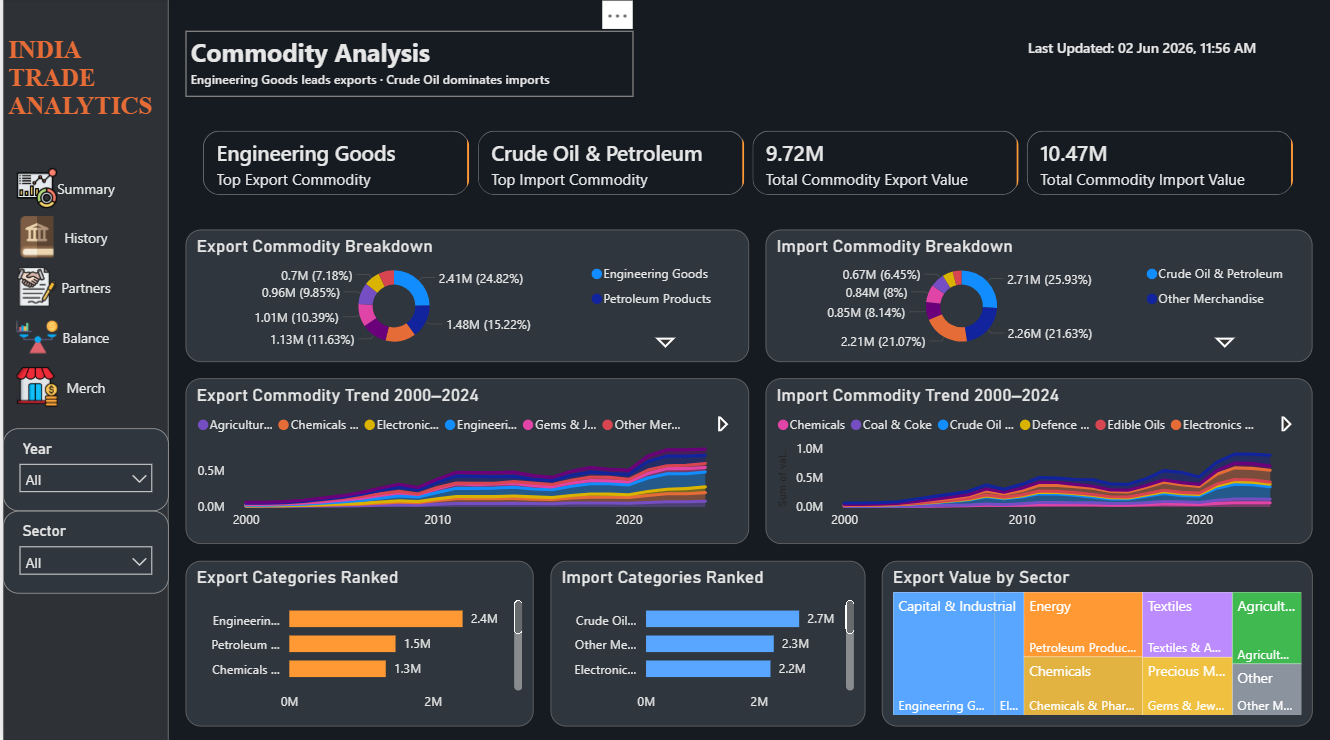

This screenshot's page, from the dashboard's own definition file:
{"tool":"powerbi","page":{"name":"Commodity Analysis","canvas":[1280,720],"ordinal":2},"visuals":[{"type":"cardVisual","fields":{"Data":["MeasuresTable.Top Export Commodity","MeasuresTable.Top Import Commodity","MeasuresTable.Total Commodity Export Value","MeasuresTable.Total Commodity Import Value"]},"box":[176,112,1088,96],"z":0},{"type":"donutChart","title":"Export Commodity Breakdown","fields":{"Category":["vw_CommodityExports.commodity_name"],"Y":["Sum(vw_CommodityExports.value_usd_m)"]},"box":[176,224,544,128],"z":1000},{"type":"donutChart","title":"Import Commodity Breakdown ","fields":{"Category":["vw_CommodityImports.commodity_name"],"Y":["Sum(vw_CommodityImports.value_usd_m)"]},"box":[736,224,528,128],"z":2000},{"type":"stackedAreaChart","title":"Export Commodity Trend 2000–2024","fields":{"Category":["vw_CommodityExports.year"],"Y":["Sum(vw_CommodityExports.value_usd_m)"],"Series":["vw_CommodityExports.commodity_name"]},"box":[176,368,544,160],"z":3000},{"type":"stackedAreaChart","title":"Import Commodity Trend 2000–2024","fields":{"Category":["vw_CommodityImports.year"],"Y":["Sum(vw_CommodityImports.value_usd_m)"],"Series":["vw_CommodityImports.commodity_name"]},"box":[736,368,528,160],"z":4000},{"type":"clusteredBarChart","title":"Export Categories Ranked","fields":{"Category":["vw_CommodityExports.commodity_name"],"Y":["Sum(vw_CommodityExports.value_usd_m)"]},"box":[176,544,336,160],"z":5000},{"type":"clusteredBarChart","title":"Import Categories Ranked","fields":{"Category":["vw_CommodityImports.commodity_name"],"Y":["Sum(vw_CommodityImports.value_usd_m)"]},"box":[528,544,304,160],"z":6000},{"type":"treemap","title":"Export Value by Sector","fields":{"Values":["Sum(vw_CommodityExports.value_usd_m)"],"Details":["vw_CommodityExports.commodity_name"],"Group":["vw_CommodityExports.sector"]},"box":[848,544,416,160],"z":7000},{"type":"textbox","box":[176,32,432,64],"z":8000},{"type":"shape","box":[0,0,160,720],"z":9000},{"type":"textbox","box":[0,32,160,128],"z":10000},{"type":"actionButton","box":[0,160,160,48],"z":11000},{"type":"actionButton","box":[0,208,160,48],"z":12000},{"type":"actionButton","box":[0,256,160,48],"z":13000},{"type":"actionButton","box":[0,304,160,48],"z":14000},{"type":"actionButton","box":[0,352,160,48],"z":15000},{"type":"cardVisual","fields":{"Data":["MeasuresTable.Last Refreshed"]},"box":[960,16,288,64],"z":16000},{"type":"slicer","fields":{"Values":["vw_CommodityExports.year"]},"box":[0,416,160,80],"z":16001},{"type":"slicer","fields":{"Values":["vw_CommodityExports.sector"]},"box":[0,496,160,80],"z":16002}]}

Visuals, with their boxes on the page's 1280x720 design canvas (x1, y1, x2, y2). These are canvas units, not pixel positions in the 1330x740 screenshot, which may show the page scaled, cropped or inside an application window:
cardVisual - MeasuresTable.Top Export Commodity x MeasuresTable.Top Import Commodity: 176,112,1264,208
"Export Commodity Breakdown" donutChart: 176,224,720,352
"Import Commodity Breakdown " donutChart: 736,224,1264,352
"Export Commodity Trend 2000–2024" stackedAreaChart: 176,368,720,528
"Import Commodity Trend 2000–2024" stackedAreaChart: 736,368,1264,528
"Export Categories Ranked" clusteredBarChart: 176,544,512,704
"Import Categories Ranked" clusteredBarChart: 528,544,832,704
"Export Value by Sector" treemap: 848,544,1264,704
textbox: 176,32,608,96
shape: 0,0,160,720
textbox: 0,32,160,160
actionButton: 0,160,160,208
actionButton: 0,208,160,256
actionButton: 0,256,160,304
actionButton: 0,304,160,352
actionButton: 0,352,160,400
cardVisual - MeasuresTable.Last Refreshed: 960,16,1248,80
slicer - vw_CommodityExports.year: 0,416,160,496
slicer - vw_CommodityExports.sector: 0,496,160,576
